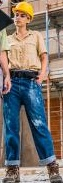boots: (0, 158, 15, 183), (1, 164, 19, 183)
hard-hat: (11, 0, 33, 21)
